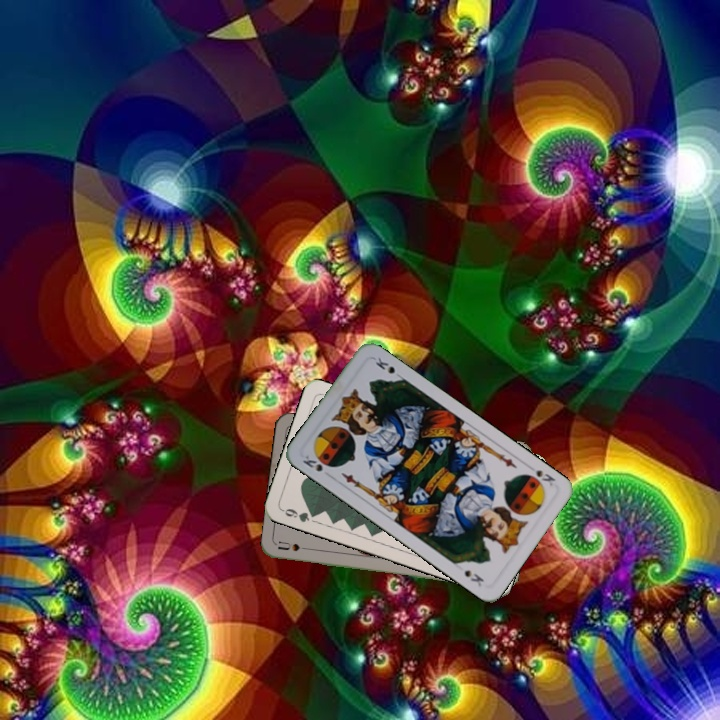G9: (278, 504, 320, 525)
SK: (523, 461, 558, 489), (298, 451, 325, 474)
SU: (275, 537, 316, 554)
